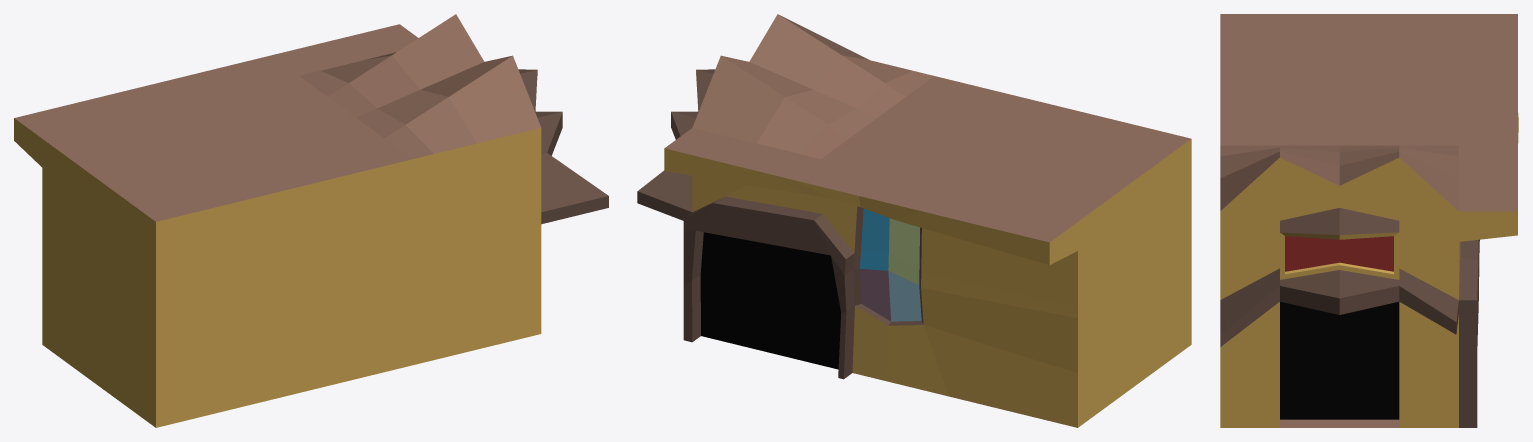
The model's file is 3_building.fbx.
3 renders of one model, left to right at view 1: azimuth 30°, elevation 25°; view 2: azimuth 150°, elevation 25°; view 3: azimuth 270°, elevation 25°, orthographic. The views are drawn at different scales.
Visible parts, largest first — view 1: 16_building; view 2: 16_building; view 3: 16_building.
Boxes of the visible parts, x1=… form: 16_building: x1=14, y1=14, x2=608, y2=427; 16_building: x1=637, y1=14, x2=1191, y2=427; 16_building: x1=1220, y1=14, x2=1518, y2=427.
Size of the model in its own units: 2122 by 1126 by 1127.
